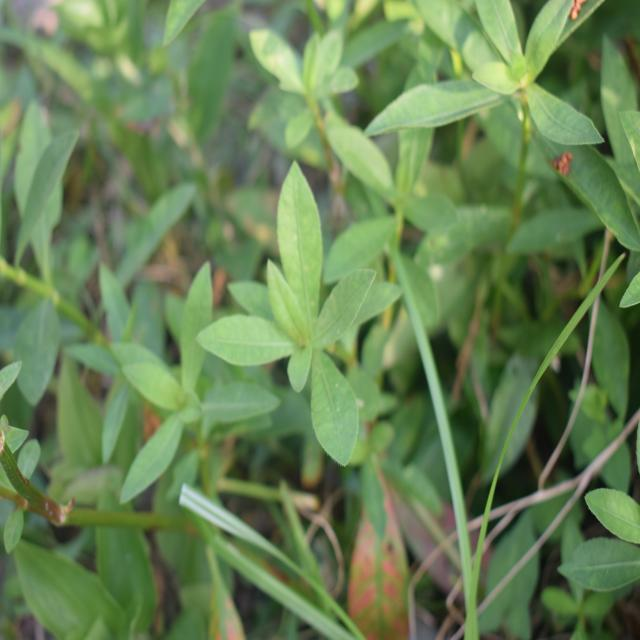Alligatorweed: (237, 207, 427, 462)
